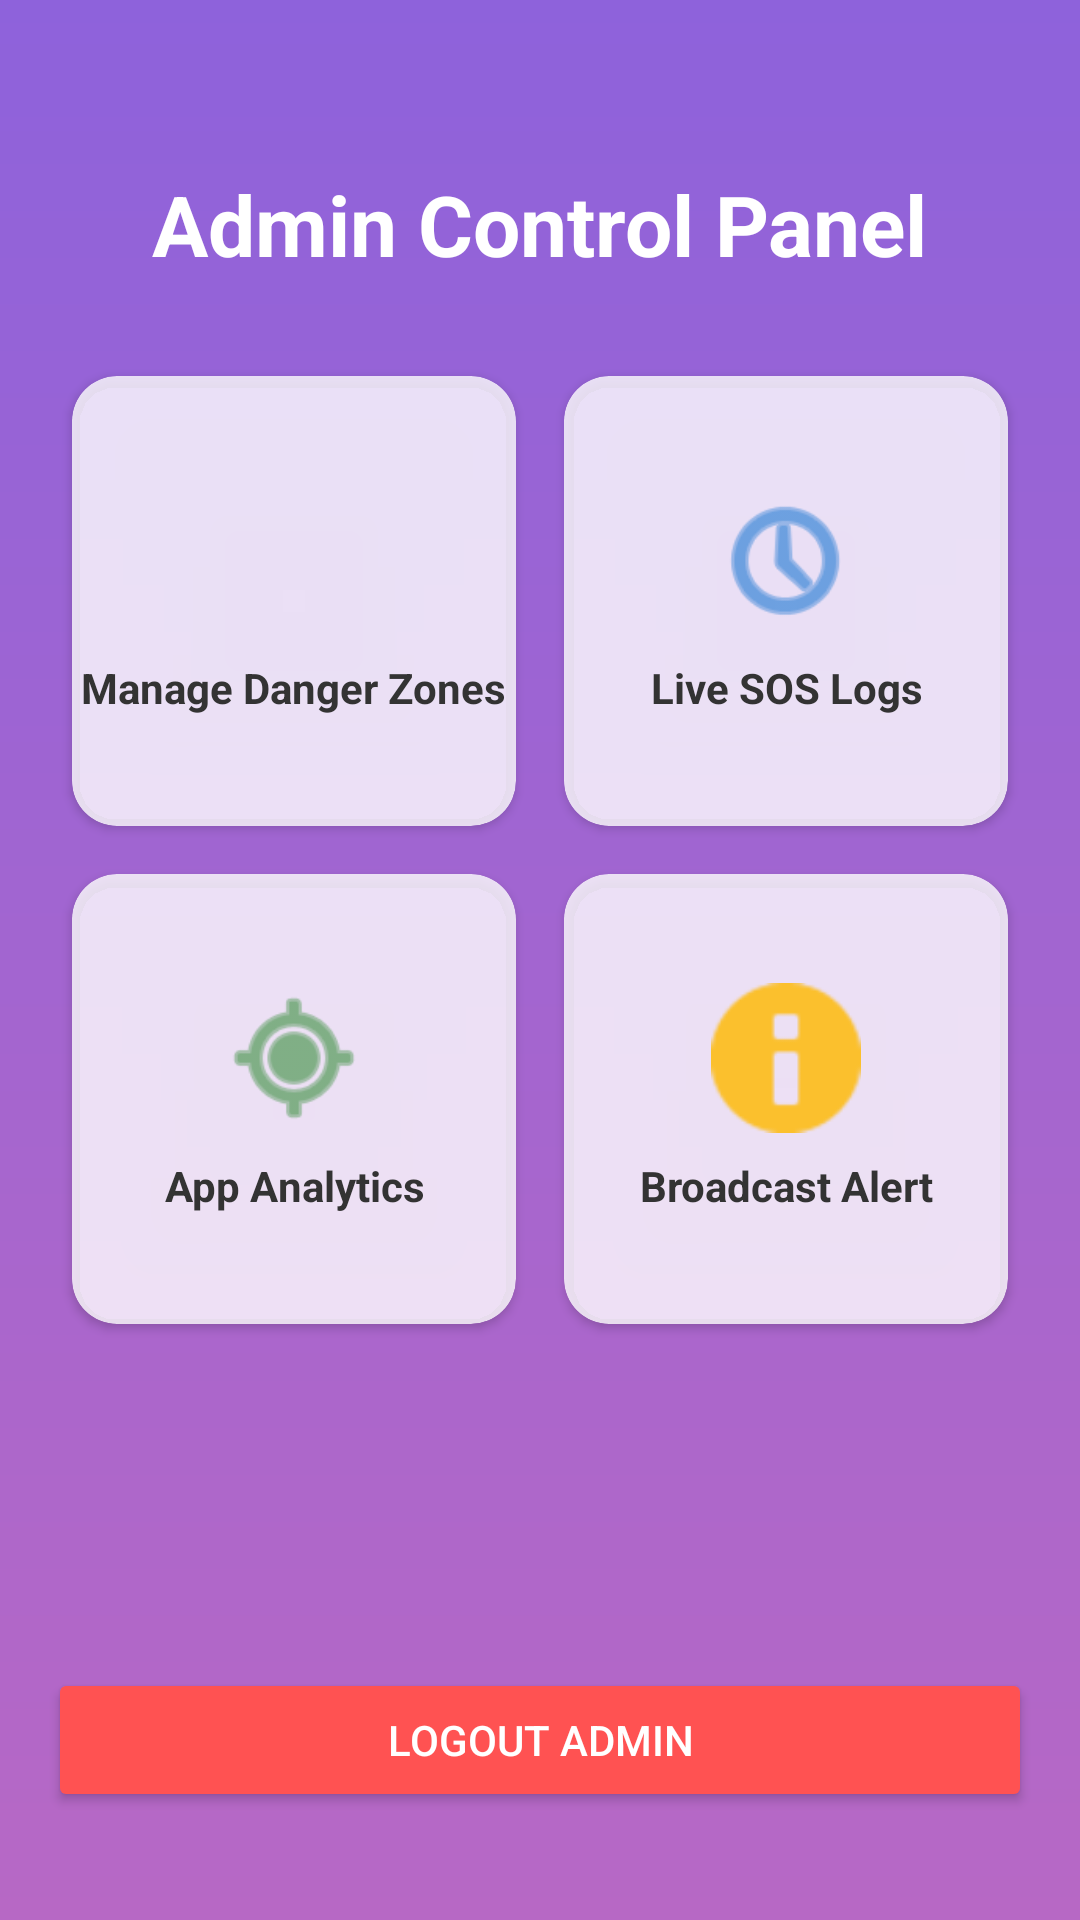

Named icons in this screenshot (1080px x 1920px) and their bounding boxes, [x1, y1, x2, y2]:
info: [711, 983, 861, 1133]
mylocation: [234, 998, 354, 1118]
recent history: [731, 506, 840, 615]
